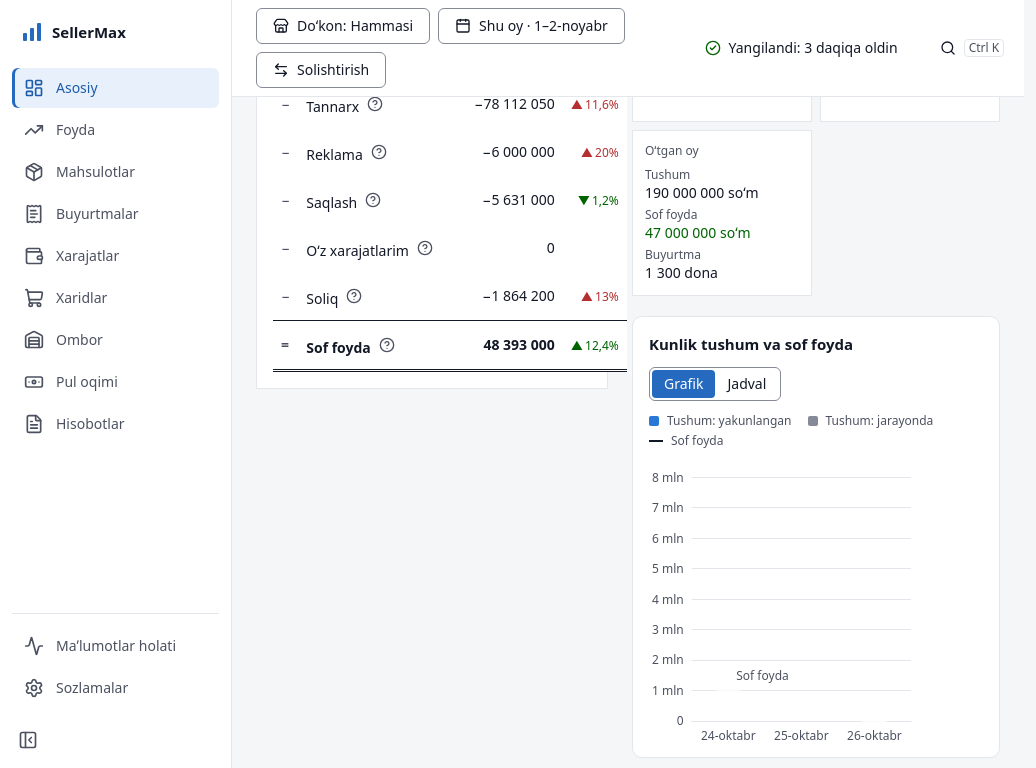
davr chizig'i va grafik › kunlik grafik: tushum (ustun) va sof foyda (chiziq), jadval ko'rinishi
(page scrolled)
Step 1. Click the radio button labelled "Jadval" → (747, 384), box left=728, top=374, right=766, bottom=393
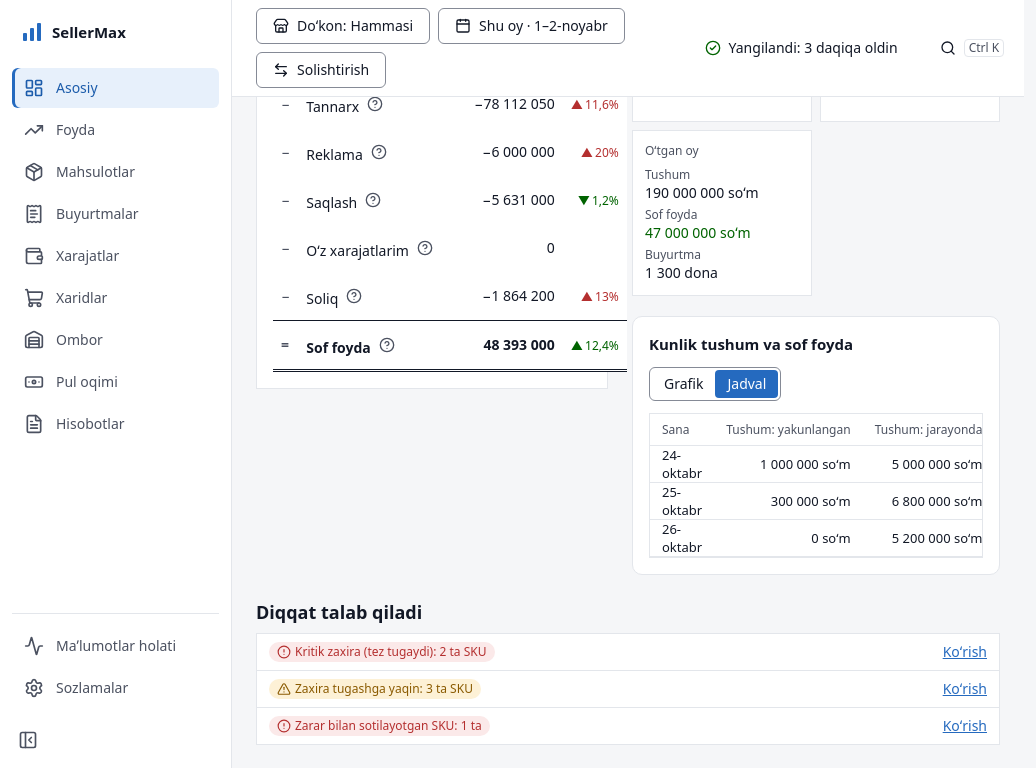
Check: the text "6 800 000 soʻm" is shown, box left=863, top=483, right=983, bottom=520
